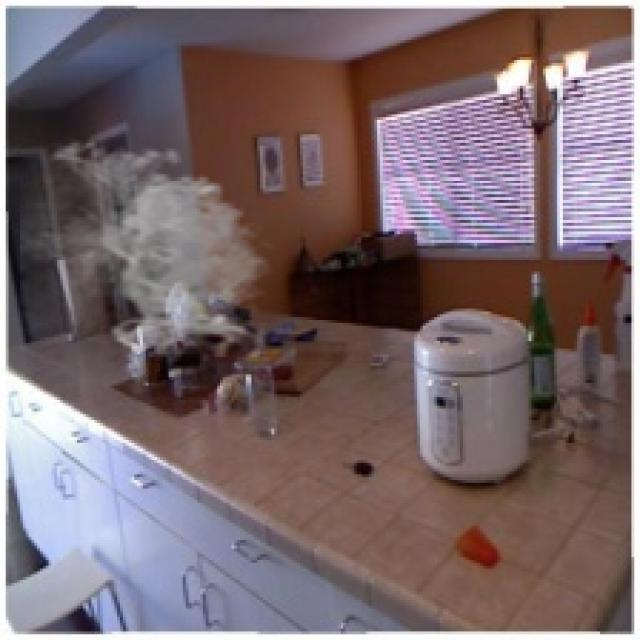smoke: (20, 134, 274, 357)
